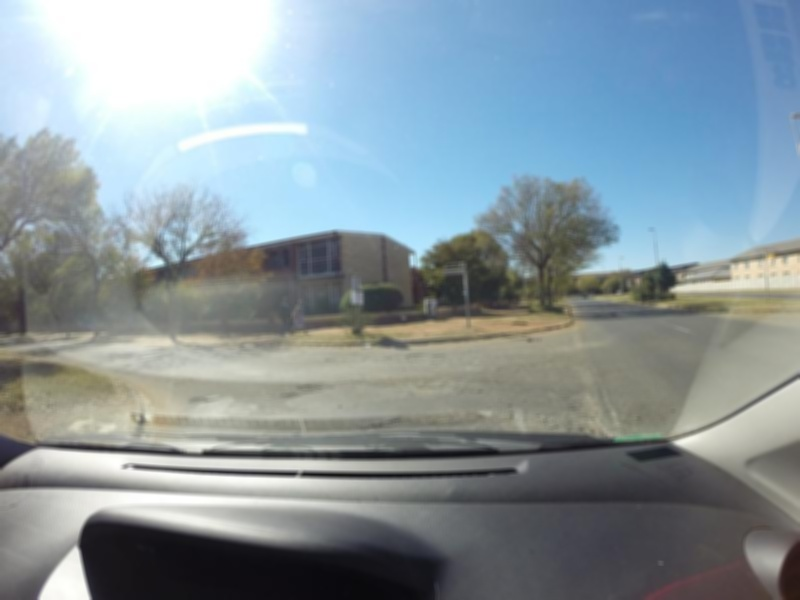pothole: (363, 403, 500, 428), (281, 373, 335, 404), (385, 348, 456, 366), (186, 385, 231, 410), (512, 332, 553, 345)
